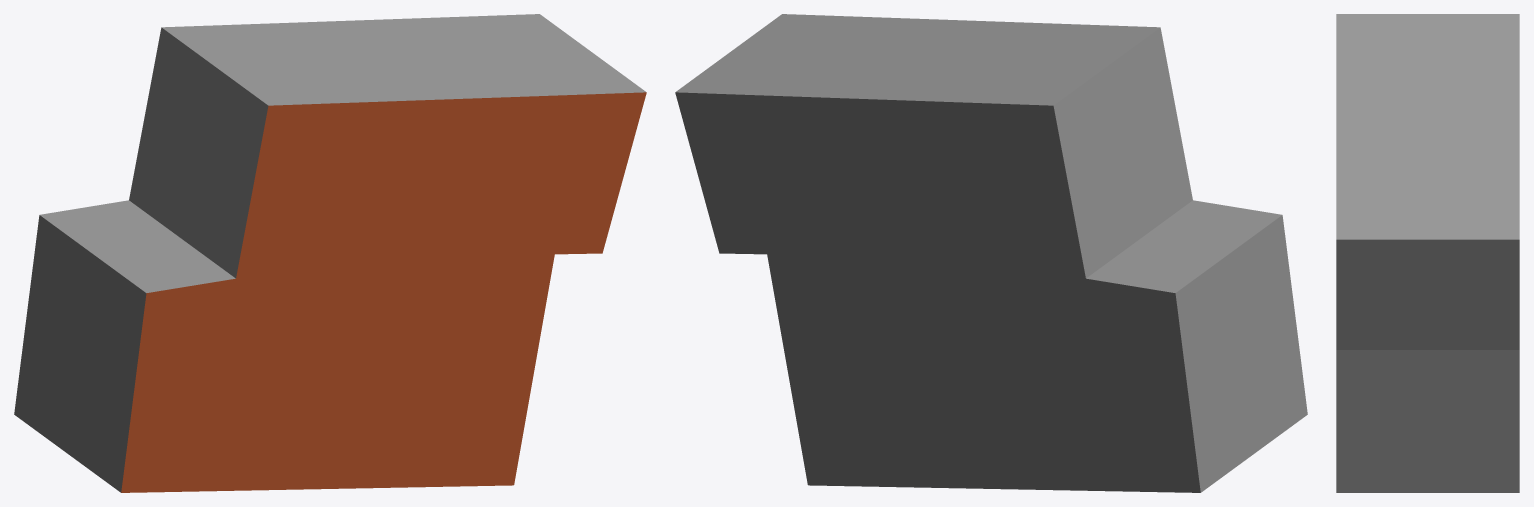
The model's file is construction_4714_assumed_A_Casa_h6m.obj.
3 renders of one model, left to right at view 1: azimuth 30°, elevation 25°; view 2: azimuth 150°, elevation 25°; view 3: azimuth 270°, elevation 25°, orthographic. The views are drawn at different scales.
Parts seen in each view (by area): view 1: construction_4714_assumed_A_Casa; view 2: construction_4714_assumed_A_Casa; view 3: construction_4714_assumed_A_Casa.
Part boxes in pixels (bbox=[...]): construction_4714_assumed_A_Casa: bbox=[14, 14, 646, 492]; construction_4714_assumed_A_Casa: bbox=[675, 14, 1307, 492]; construction_4714_assumed_A_Casa: bbox=[1336, 14, 1519, 492].
Bounding box in the file's own units: 17.01 × 13.6 × 6.
